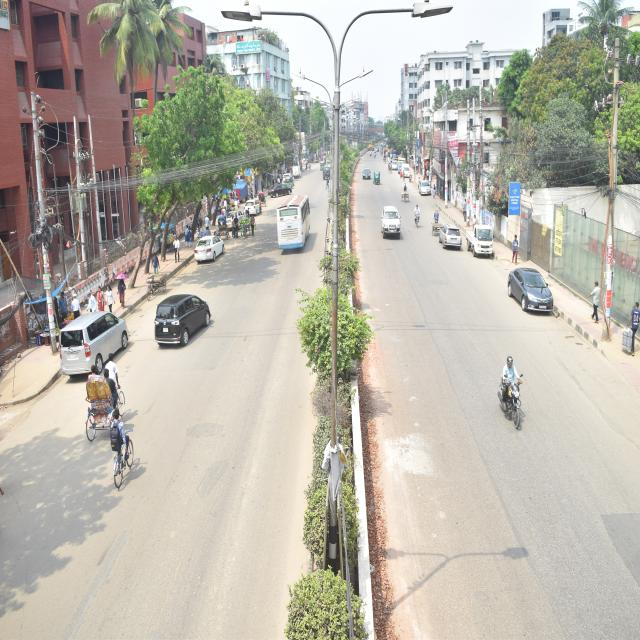bus: (235, 185, 319, 306)
car: (134, 287, 233, 383), (56, 296, 142, 390), (498, 258, 567, 345), (177, 220, 232, 279), (426, 216, 468, 264), (236, 183, 271, 221), (415, 163, 442, 212), (258, 176, 300, 196), (395, 160, 421, 188), (358, 158, 382, 185)
microbus: (374, 196, 416, 256)
motorbike: (482, 323, 538, 434), (403, 188, 430, 235)
pickup-van: (466, 212, 512, 266)
